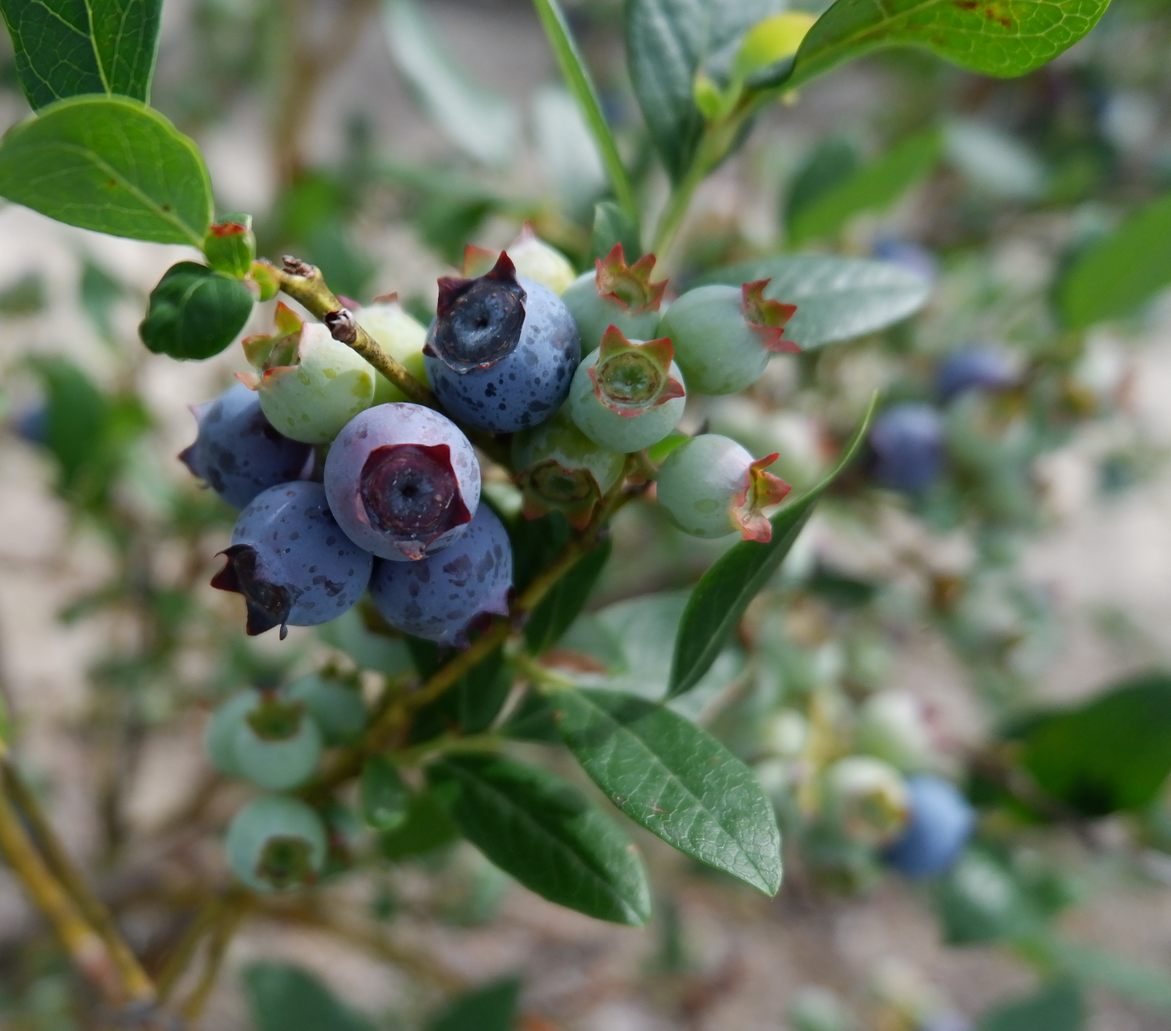Immature: (667, 280, 798, 394), (570, 324, 684, 450), (257, 323, 371, 441), (660, 436, 781, 538), (566, 248, 668, 349), (327, 295, 425, 400), (515, 412, 621, 501), (461, 222, 578, 297)
Mature: (422, 251, 582, 439), (325, 406, 477, 557), (221, 482, 366, 627), (370, 501, 511, 640), (182, 384, 316, 507)
